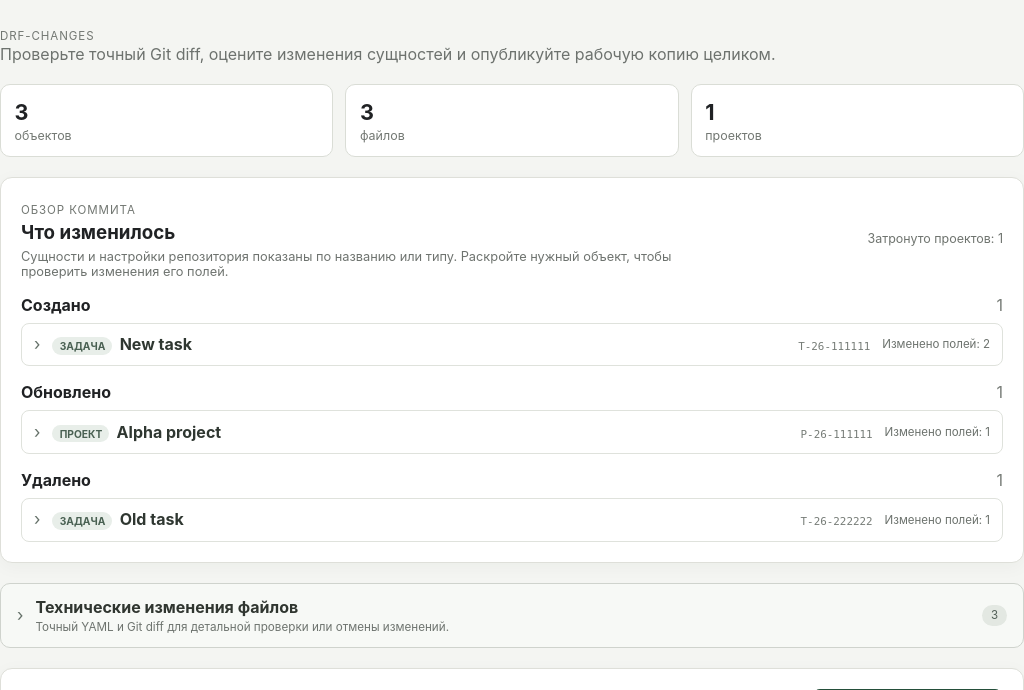
Test: Changes workspace › localizes entity types on file cards
Expected: the heading "Что изменилось" is shown, x1=21 y1=221 x2=175 y2=244
Expected: the text "Проект" is shown, x1=52 y1=425 x2=110 y2=442
Click the text "Alpha project". click: point(169, 432)
box: x1=117 y1=422 x2=221 y2=442
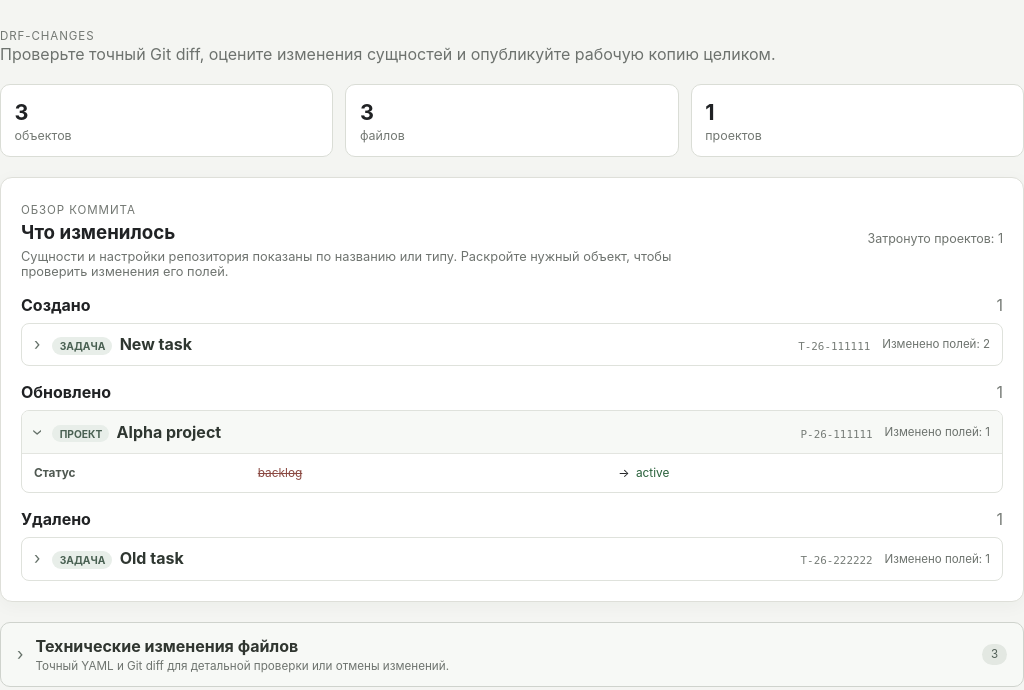
Result: the text "Статус" is shown at x1=34 y1=466 x2=76 y2=480
